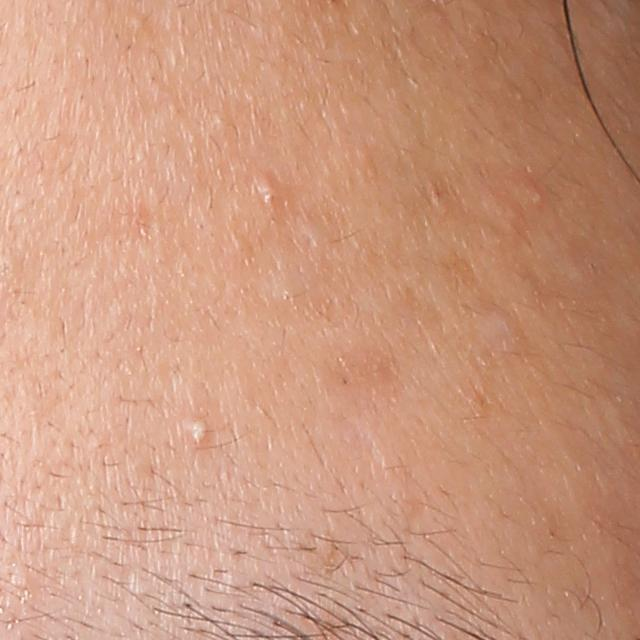comedo: (125, 12, 148, 38)
pustule: (182, 413, 215, 451)
